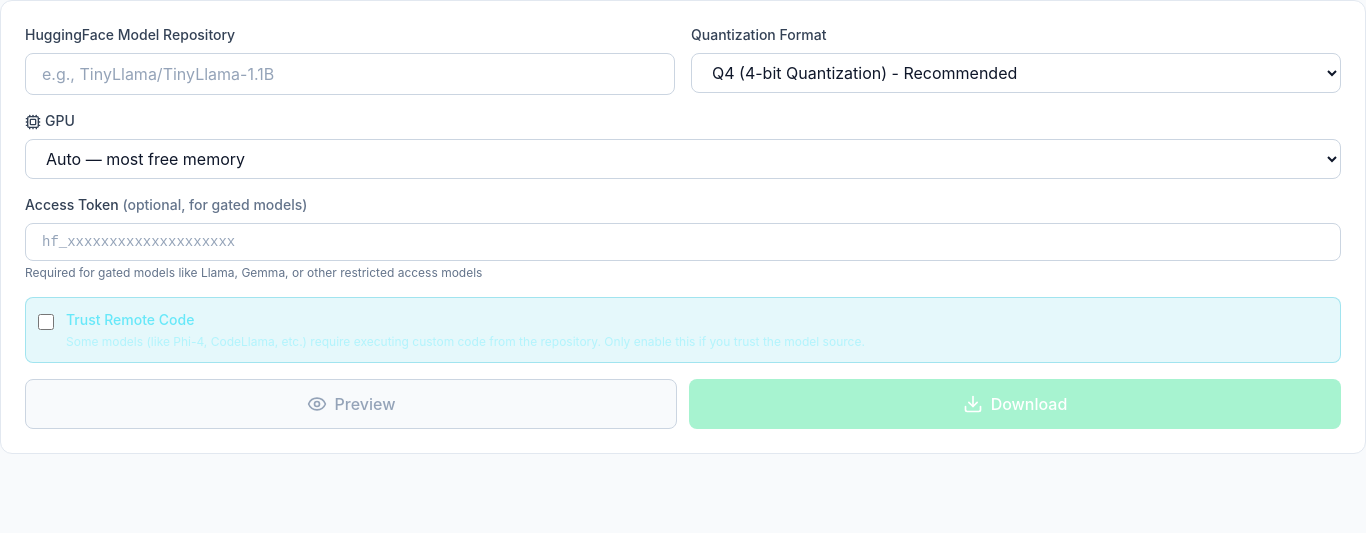
Test case: ModelDownloadForm › Preview Modal Integration › should not show preview modal for invalid repository ID
The image size is (1366, 533).
Type "invalid" into the field labelled "HuggingFace Model Repository" at (350, 74), box [25, 53, 675, 95]
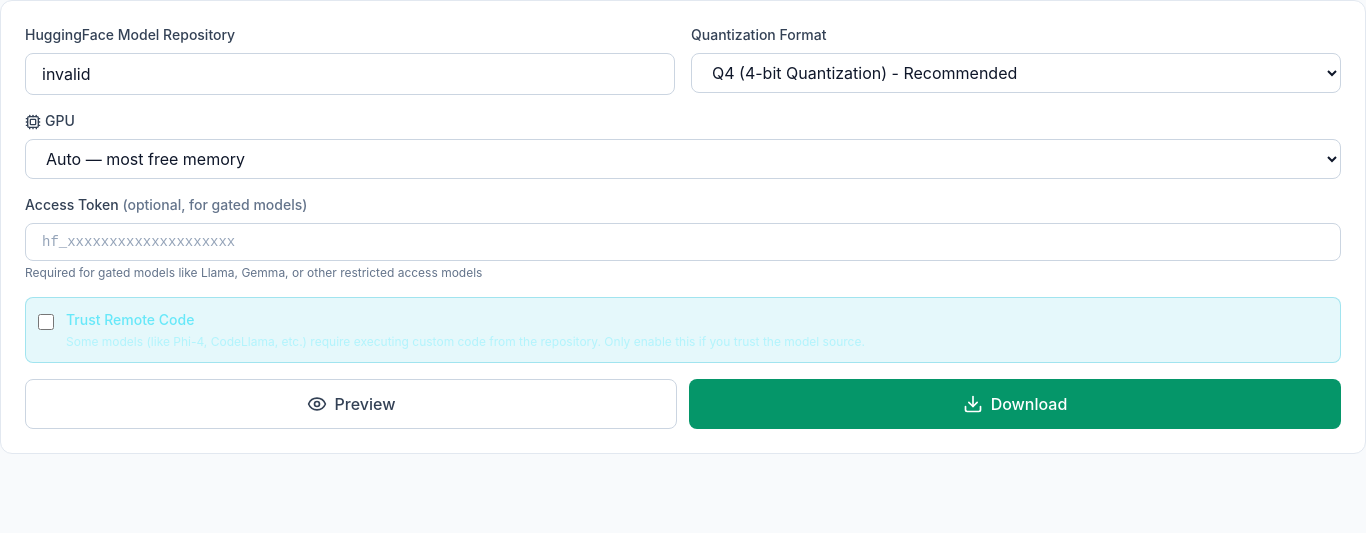
Click the button "Preview" at (351, 404), box [25, 379, 677, 429]
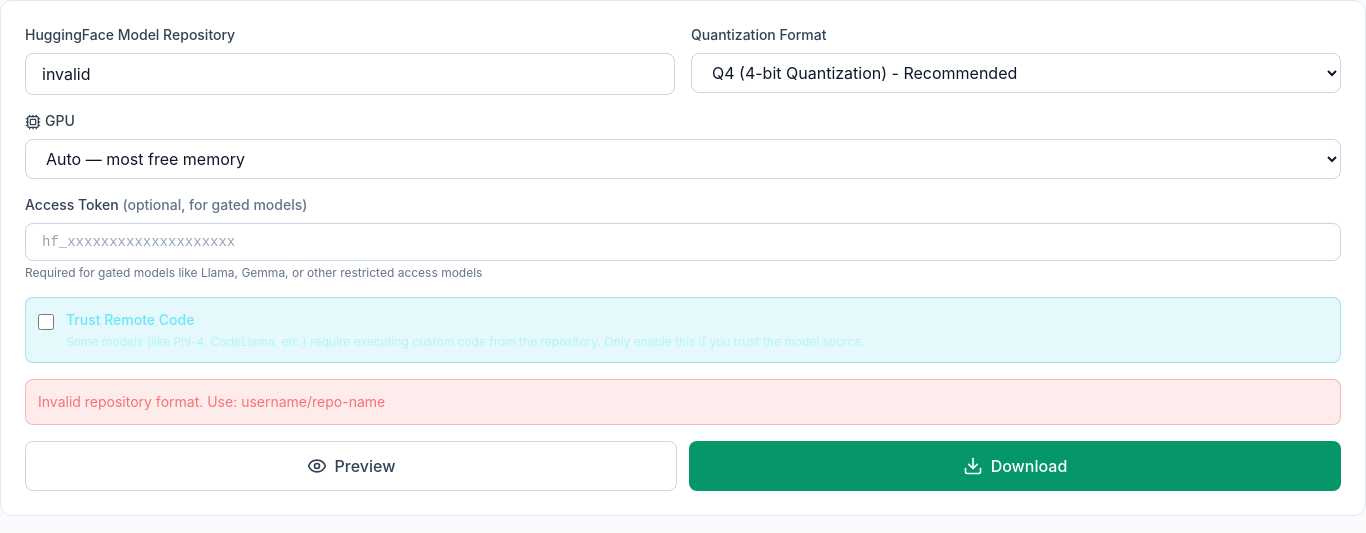
Check: the text "Invalid repository format. Use: username/repo-name" is shown, box [25, 379, 1341, 425]
